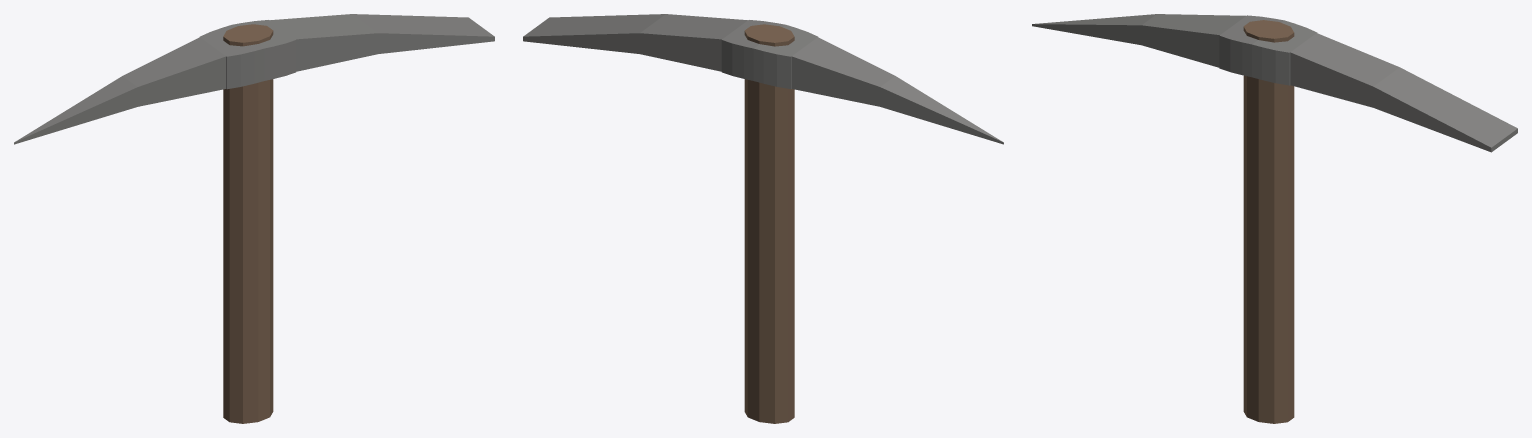
File: Pico.fbx
3 views of the same model, side by side, from view 1: azimuth 30°, elevation 25°; view 2: azimuth 150°, elevation 25°; view 3: azimuth 330°, elevation 25° (orthographic).
Parts seen in each view (by area): view 1: Cube, Cylinder; view 2: Cube, Cylinder; view 3: Cube, Cylinder.
Boxes of the visible parts, left/top/right/bottom form: Cube: left=14, top=14, right=494, bottom=144; Cylinder: left=223, top=24, right=273, bottom=423; Cube: left=523, top=14, right=1003, bottom=144; Cylinder: left=744, top=24, right=794, bottom=423; Cube: left=1032, top=14, right=1517, bottom=152; Cylinder: left=1243, top=20, right=1294, bottom=423.
Size of the model in its own units: 200 by 156 by 24.07.
